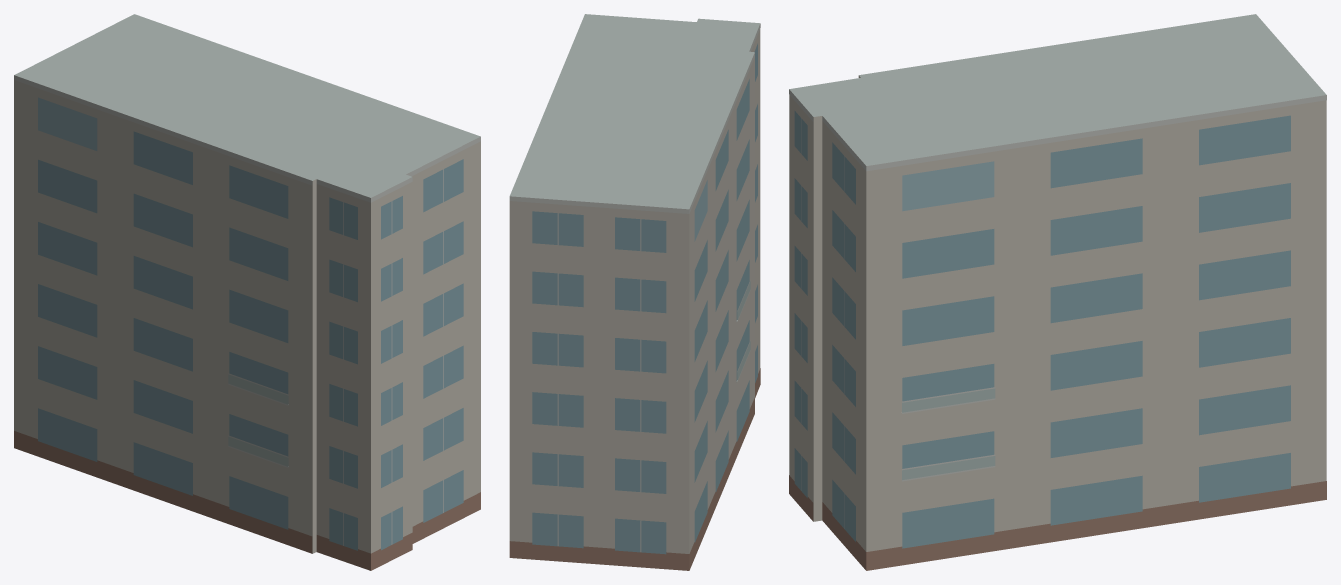
File: survey-upis-32527197.glb
The picture shows the model from 3 angles, left to right: view 1: azimuth 30°, elevation 25°; view 2: azimuth 150°, elevation 25°; view 3: azimuth 270°, elevation 25°; orthographic projection. The views are drawn at different scales.
Visible parts, largest first — view 1: survey-upis-32527197.tmp; view 2: survey-upis-32527197.tmp; view 3: survey-upis-32527197.tmp.
Part boxes in pixels (x1,y1,x2,y2): survey-upis-32527197.tmp: (14, 14, 480, 570); survey-upis-32527197.tmp: (509, 14, 760, 570); survey-upis-32527197.tmp: (789, 14, 1326, 570).
Bounding box in the file's own units: 15.32 × 19 × 22.88.
